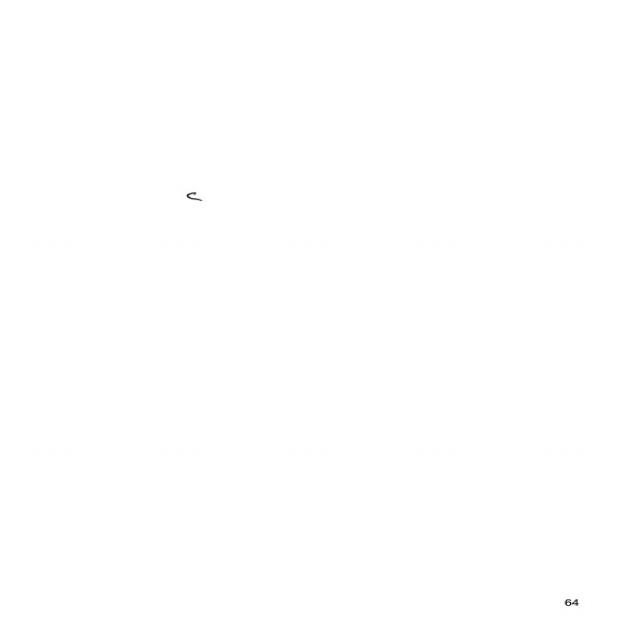2 -two-: (183, 189, 207, 206)
